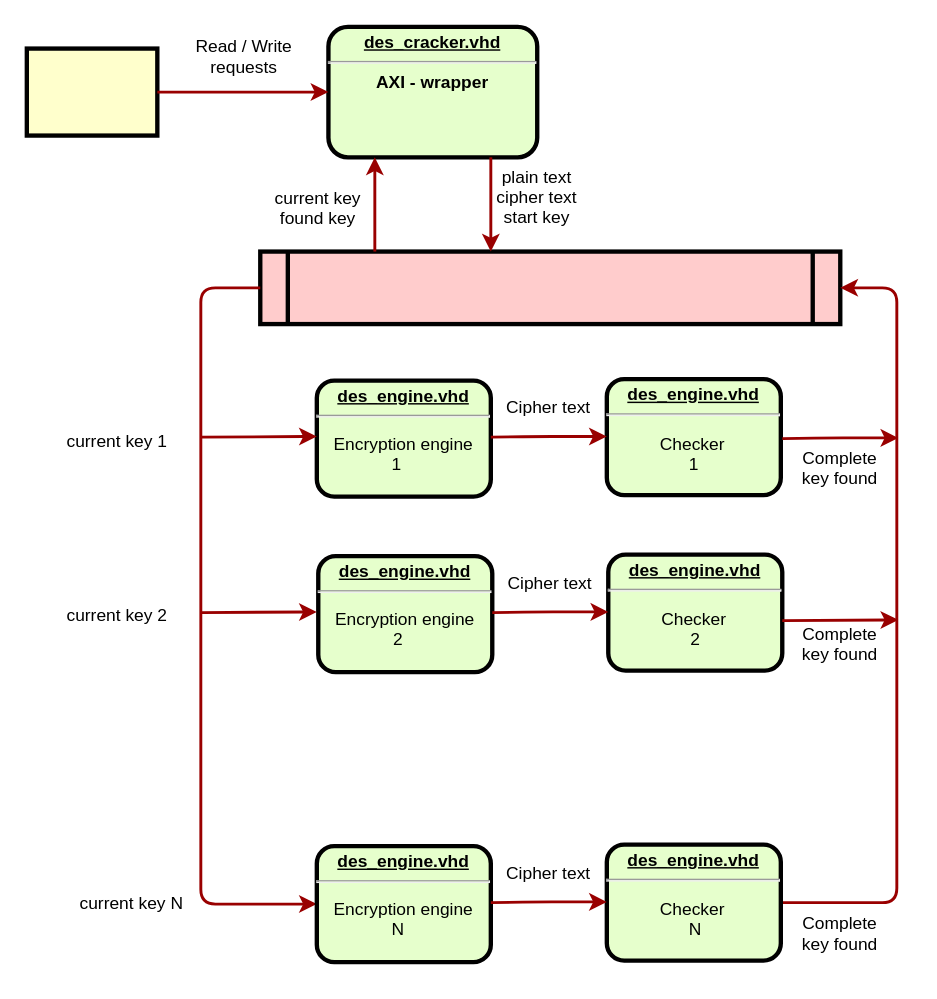
Some shapes in this 937 by 999 pixel diagram are drawn without their labels. The shapes that lost their labels are listed below. From the top down, each one's box as (x1, y1, x2, y2) in pixels, then its label:
(24, 46, 159, 137): CPU
(257, 249, 842, 326): des_sm.vhd - Engine controller
